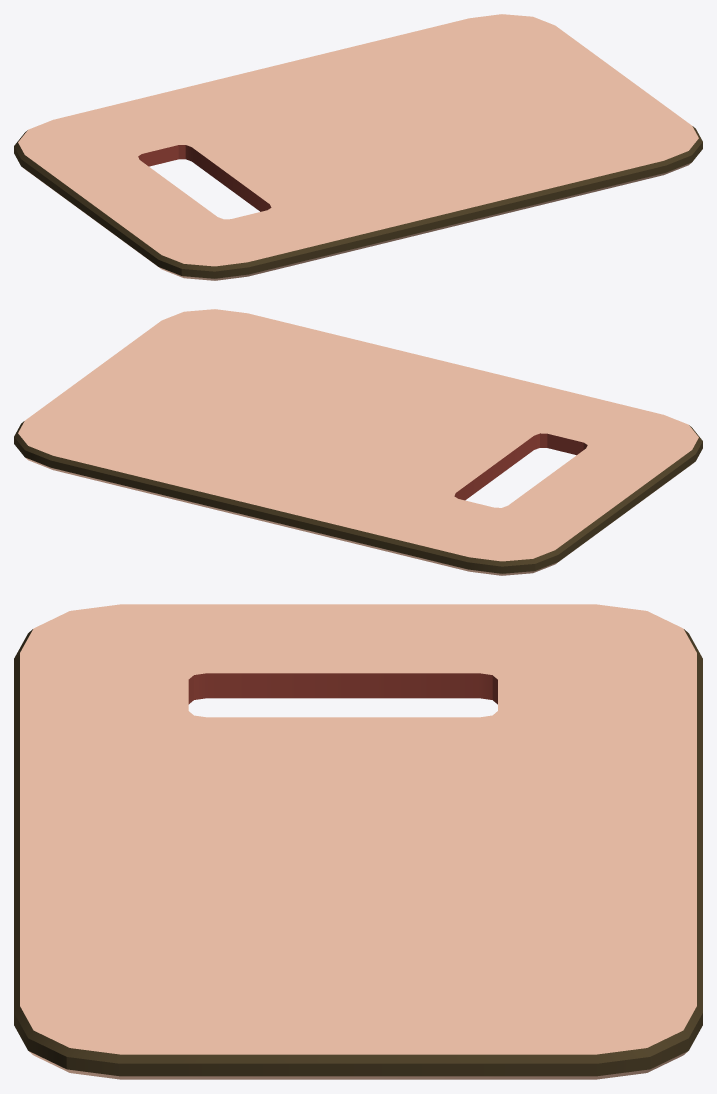
The model's file is ChoppingBoard.fbx.
3 views of the same model, one above another, from view 1: azimuth 30°, elevation 25°; view 2: azimuth 150°, elevation 25°; view 3: azimuth 270°, elevation 25° (orthographic). The views are drawn at different scales.
Parts seen in each view (by area): view 1: ChoppingBoard; view 2: ChoppingBoard; view 3: ChoppingBoard.
Boxes of the visible parts, box(x1,y1,x2,y2) form: ChoppingBoard: box(14, 14, 702, 280); ChoppingBoard: box(14, 309, 702, 575); ChoppingBoard: box(14, 604, 702, 1079).
Bounding box in the file's own units: 0.8241 × 0.0211 × 0.5263.
